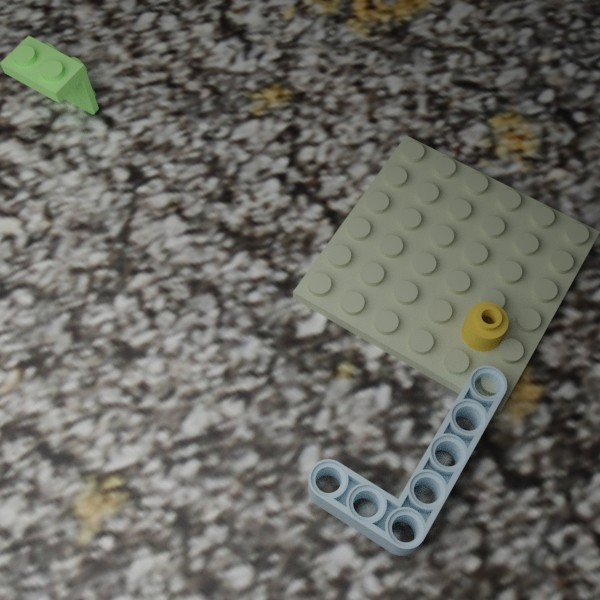lego: (293, 135, 600, 416), (308, 365, 507, 556), (0, 35, 98, 114), (460, 301, 508, 353)
